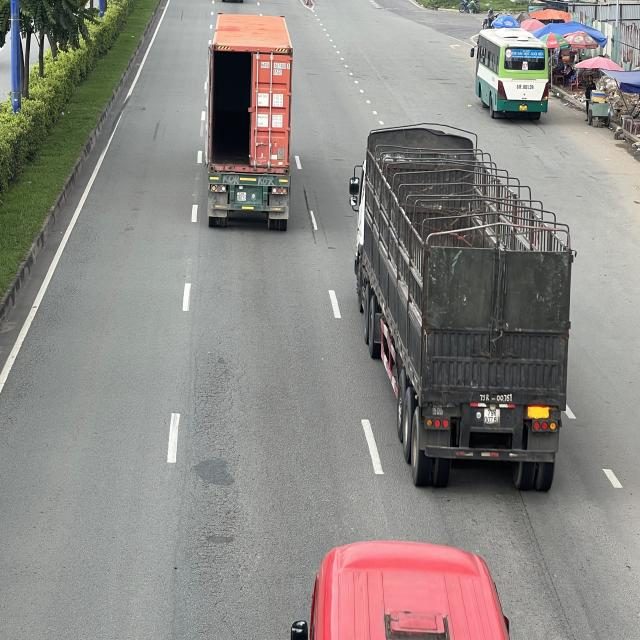coach: (471, 27, 550, 117)
container: (350, 123, 575, 505), (205, 12, 293, 233)
